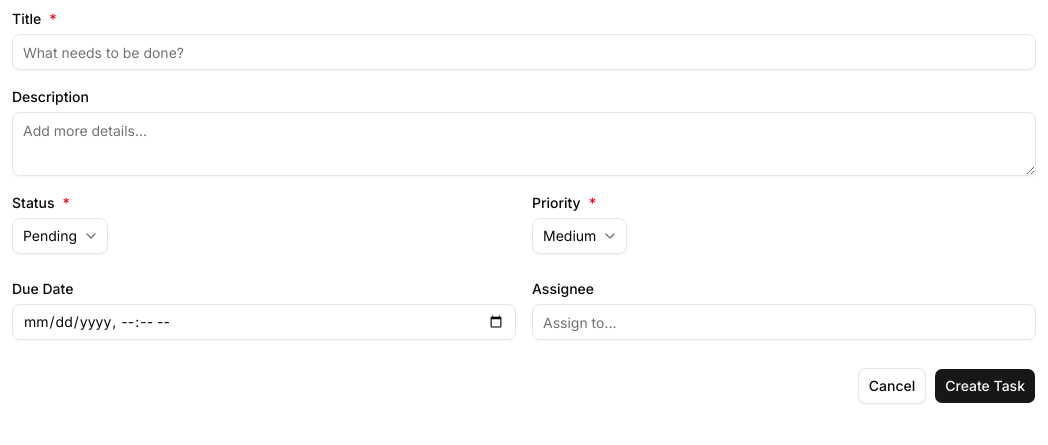
Scenario: TaskForm — validation › shows validation error when title is too short (< 3 chars)
Type "ab" into the field labelled "Title *".
click(524, 52); type("ab")  # box [12, 34, 1036, 70]
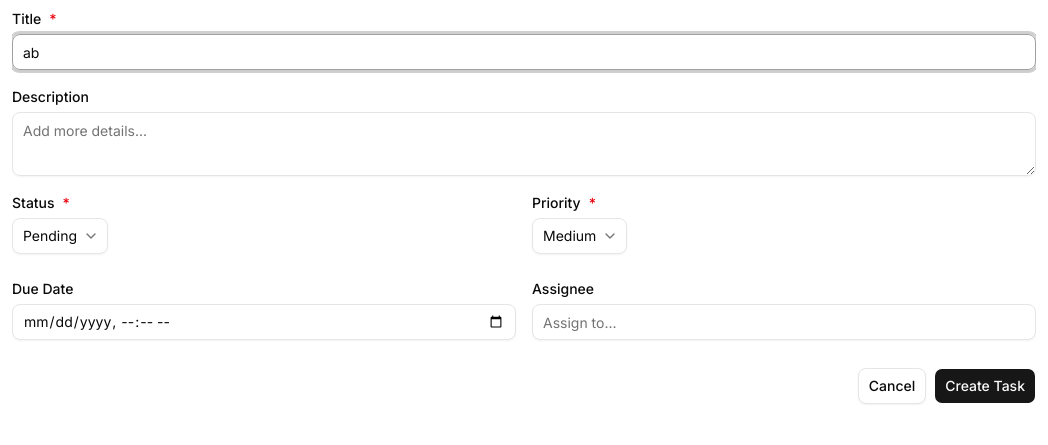
Click the button "Create Task".
click(985, 386)  # box [934, 368, 1036, 404]
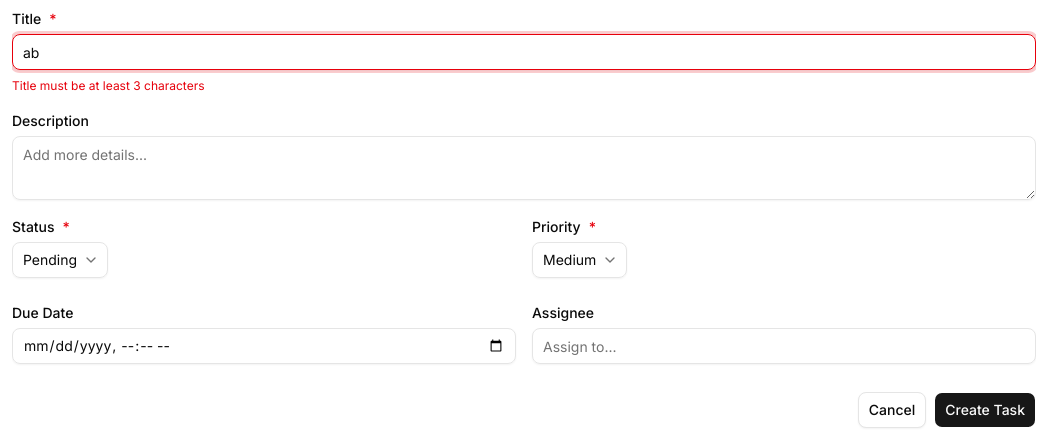
expect the text "Title must be at least 3 characters" is shown: met, box [12, 78, 204, 93]
